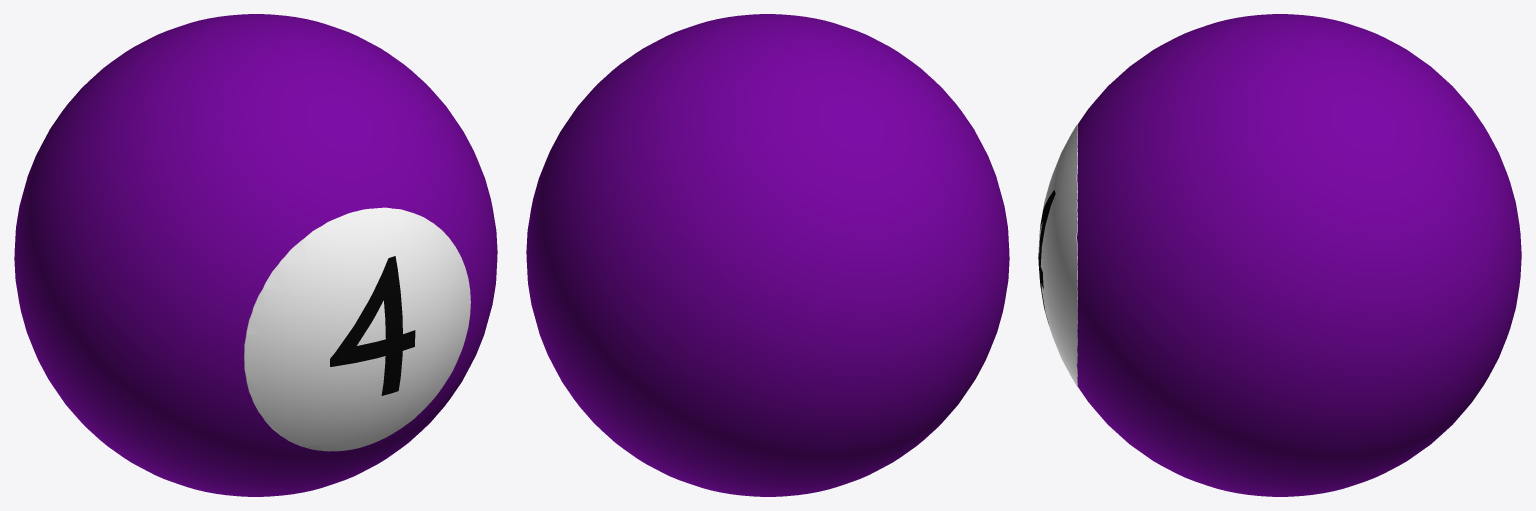
The model's file is Ball4.fbx.
3 views of the same model, side by side, from view 1: azimuth 30°, elevation 25°; view 2: azimuth 150°, elevation 25°; view 3: azimuth 270°, elevation 25° (orthographic).
Parts seen in each view (by area): view 1: Ball4; view 2: Ball4; view 3: Ball4.
Part boxes in pixels (x1=…): Ball4: x1=14, y1=14, x2=497, y2=496; Ball4: x1=526, y1=14, x2=1009, y2=496; Ball4: x1=1038, y1=14, x2=1521, y2=496.
Bounding box in the file's own units: 5.7 × 5.7 × 5.7.
